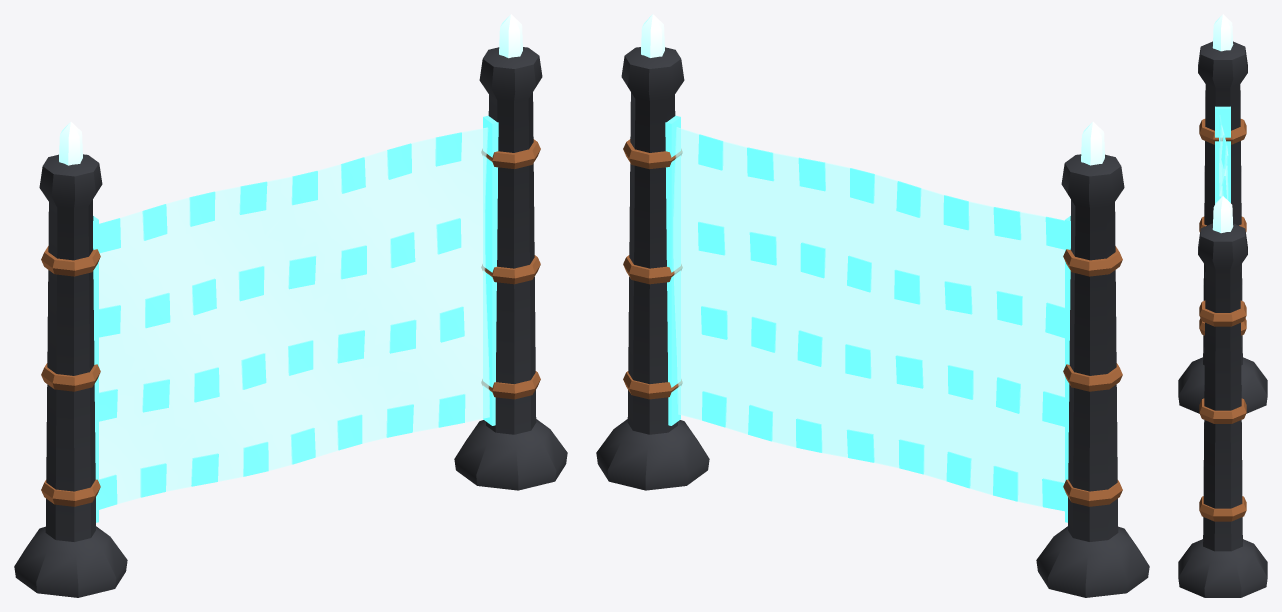
File: deco_energy_barrier.fbx
The picture shows the model from 3 angles, left to right: view 1: azimuth 30°, elevation 25°; view 2: azimuth 150°, elevation 25°; view 3: azimuth 270°, elevation 25°; orthographic projection. The views are drawn at different scales.
Visible parts, largest first — view 1: EnergyBarrier_Membrane, EnergyBarrier_Posts; view 2: EnergyBarrier_Membrane, EnergyBarrier_Posts; view 3: EnergyBarrier_Posts, EnergyBarrier_Membrane.
Part boxes in pixels (x1,y1,x2,y2): EnergyBarrier_Membrane: (99, 127, 489, 509); EnergyBarrier_Posts: (14, 14, 567, 597); EnergyBarrier_Membrane: (673, 127, 1064, 511); EnergyBarrier_Posts: (596, 14, 1149, 597); EnergyBarrier_Posts: (1178, 14, 1267, 597); EnergyBarrier_Membrane: (1219, 115, 1228, 200).
Bounding box in the file's own units: 387 × 315 × 66.52.
